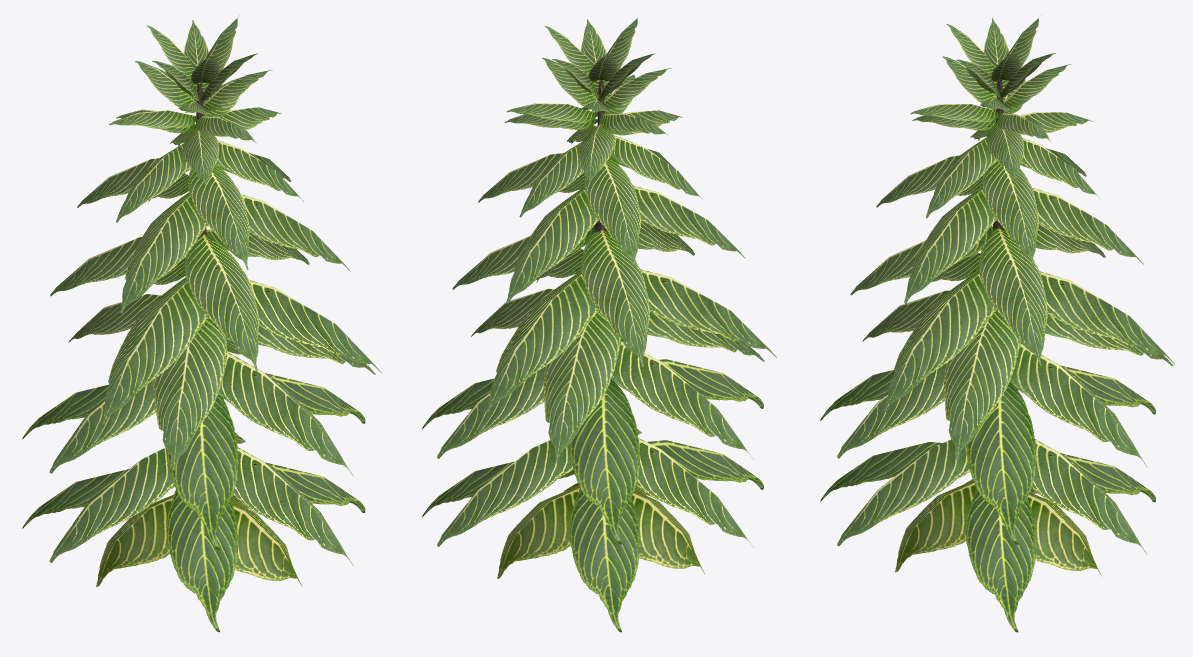
Rendered from plant13.FBX.
3 renders of one model, left to right at view 1: azimuth 30°, elevation 25°; view 2: azimuth 150°, elevation 25°; view 3: azimuth 270°, elevation 25°, orthographic.
Visible parts, largest first — view 1: plant13; view 2: plant13; view 3: plant13.
Part boxes in pixels (bbox=[...]): plant13: bbox=[22, 15, 381, 632]; plant13: bbox=[422, 18, 776, 632]; plant13: bbox=[820, 15, 1174, 632].
Bounding box in the file's own units: 3.34 × 5.35 × 3.25.
